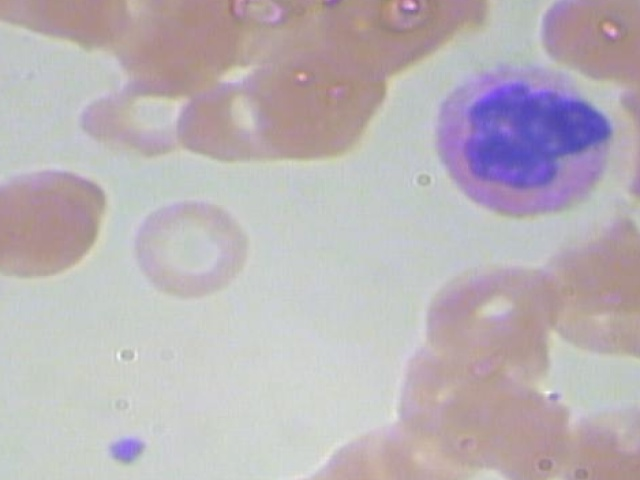Platelets: (98, 430, 153, 467)
RBC: (239, 47, 398, 170), (409, 257, 567, 367), (120, 191, 261, 304), (0, 161, 115, 288), (74, 67, 200, 158), (529, 0, 640, 99), (0, 13, 9, 122)
WBC: (424, 52, 630, 221)
